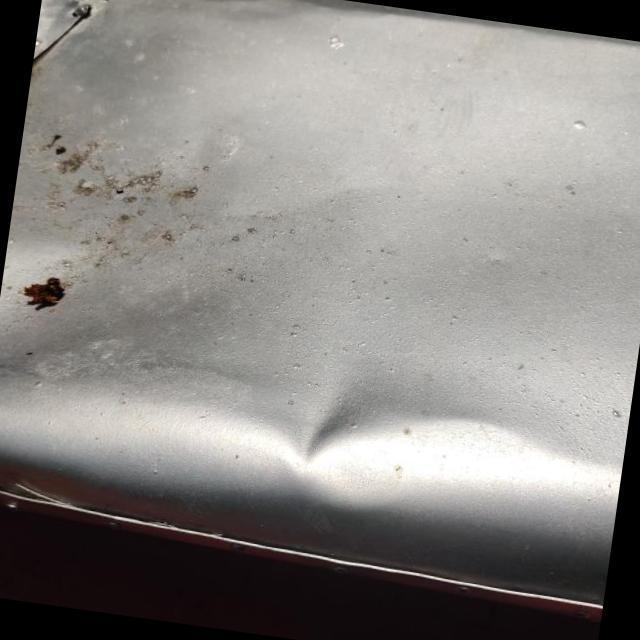Dent: (242, 348, 399, 514)
